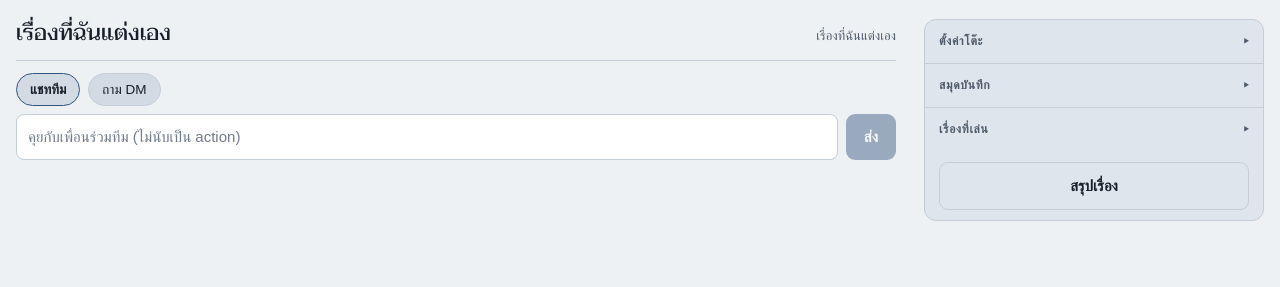
CampaignPage — adventure title › shows the custom adventure title and tagline at the table once started
Click the button "เรื่องที่เล่น ▸" at (964, 129), box x1=925 y1=108 x2=1263 y2=152
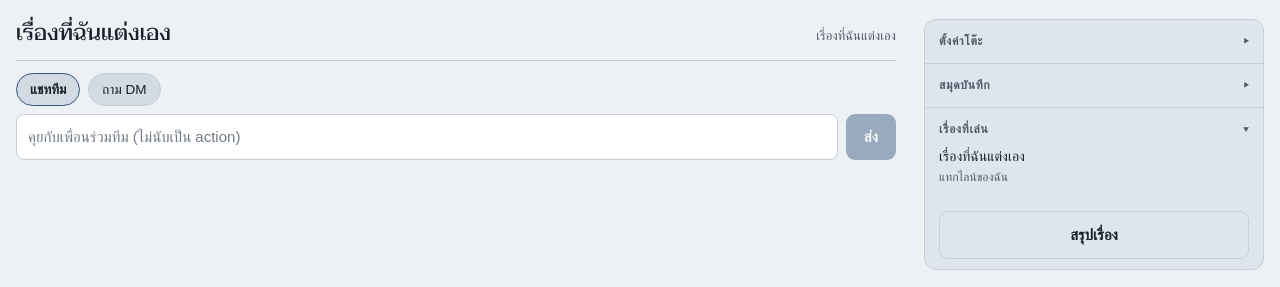
Expected: the element named "เรื่องที่เล่น" shows "เรื่องที่ฉันแต่งเอง", x1=939 y1=145 x2=1025 y2=168
Expected: the element named "เรื่องที่เล่น" shows "แทกไลน์ของฉัน", x1=939 y1=170 x2=1008 y2=184
